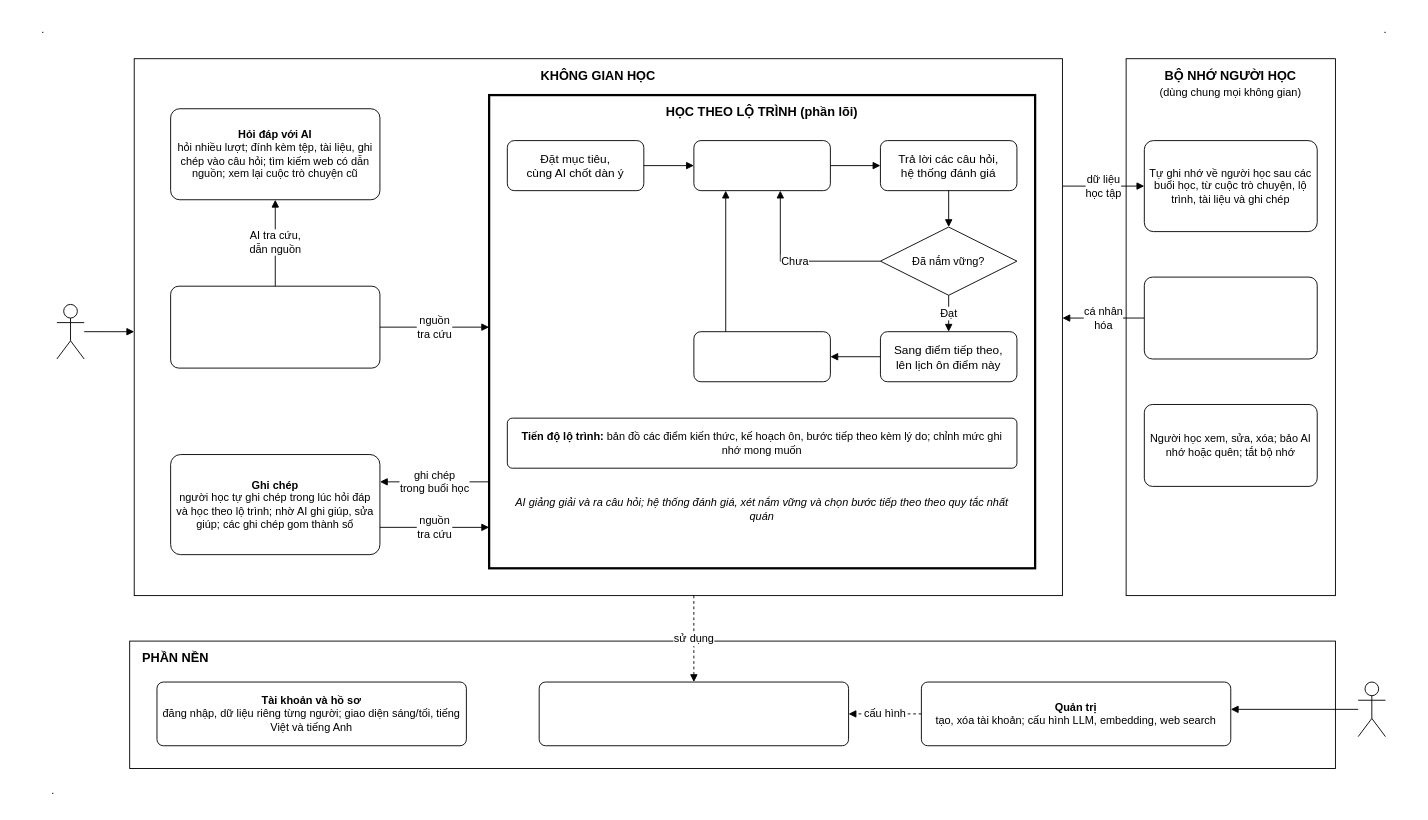
The diagram is 1428 pixels wide and 820 high, and some of its shapes have lost their labels. The shapes that lost their labels are listed below. From the top down, each one's centre as x and y in pixels, then its label:
point 761,165: Học từng điểm kiến thức
point 70,331: Người học
point 275,326: Kho tài liệu tải tài liệu học lên; AI tra cứu và dẫn nguồn
point 1230,317: Bản tóm tắt về người học đưa vào mọi câu trả lời của AI
point 761,356: Đến hạn thì ôn lại
point 693,713: Dịch vụ AI bên ngoài mô hình ngôn ngữ, xử lý tài liệu, tìm kiếm web
point 1371,709: Quản trị viên
